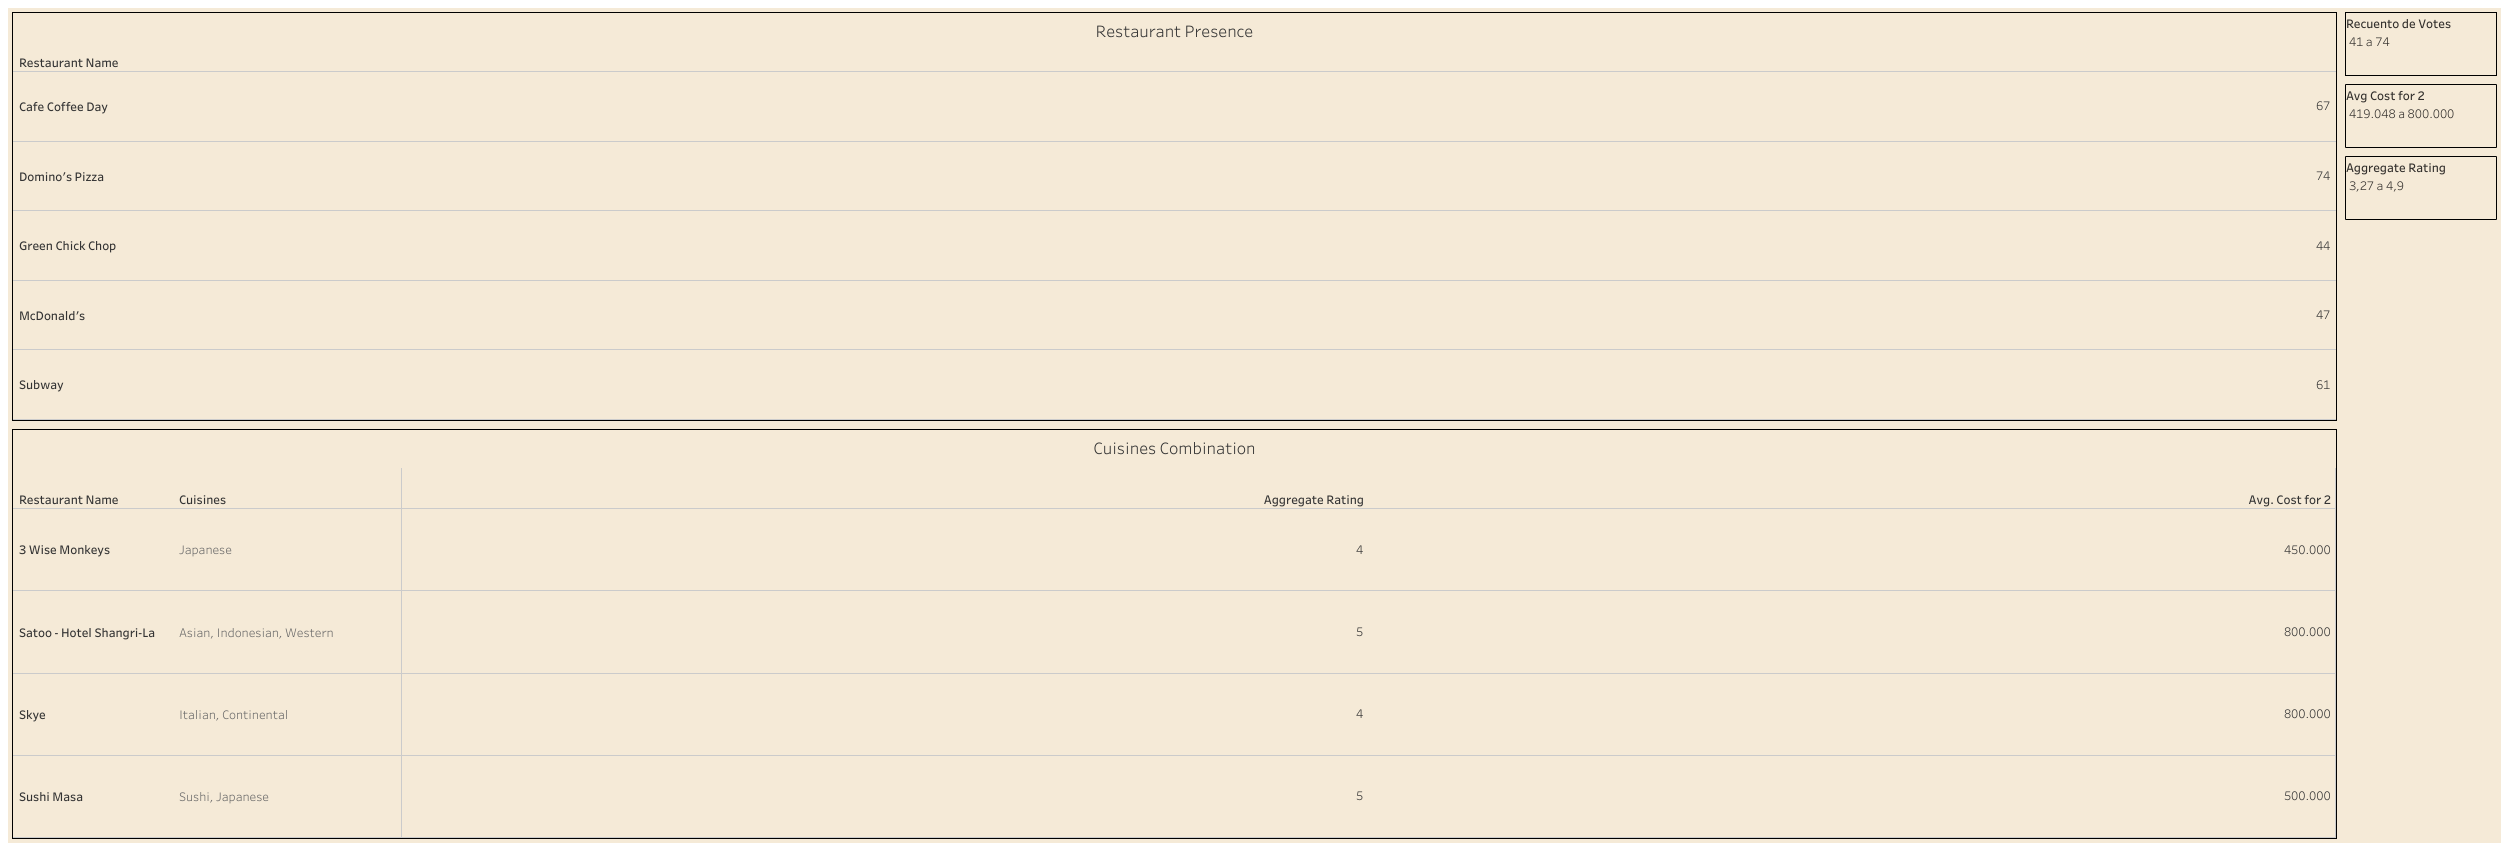

The page's visual inventory and layout, read from the dashboard file:
{"tool":"tableau","page":{"name":"Dashboard 2","canvas":[1000,1000],"units":"permille","ordinal":1},"visuals":[{"type":"worksheet","title":"Rest Presence","mark":"Automatic","rows":["Restaurant Name"],"box":[6.2,11.6,862.5,488.4]},{"type":"filter","title":"Rest Presence","param":"[federated.1qaar8u1x2t8921dy8yo61bezklz].[cnt:Votes:qk]","box":[868.8,11.6,125,102.9]},{"type":"filter","title":"Cuisines Comb","param":"[federated.1qaar8u1x2t8921dy8yo61bezklz].[avg:Average Cost for two:qk]","box":[868.8,114.5,125,102.9]},{"type":"filter","title":"Cuisines Comb","param":"[federated.1qaar8u1x2t8921dy8yo61bezklz].[avg:Aggregate rating:qk]","box":[868.8,217.4,125,102.9]},{"type":"worksheet","title":"Cuisines Comb","mark":"Automatic","rows":["Restaurant Name","Cuisines"],"box":[6.2,500,862.5,488.4]}]}

Visuals, with their boxes on the dashboard's canvas, which has no fixed pixel size, in thousandths of its width and height (x1, y1, x2, y2). These are canvas units, not pixel positions in the 2508x850 screenshot, which may show the page scaled, cropped or inside an application window:
"Rest Presence" worksheet: 6 12 869 500
"Rest Presence" filter: 869 12 994 114
"Cuisines Comb" filter: 869 114 994 217
"Cuisines Comb" filter: 869 217 994 320
"Cuisines Comb" worksheet: 6 500 869 988
